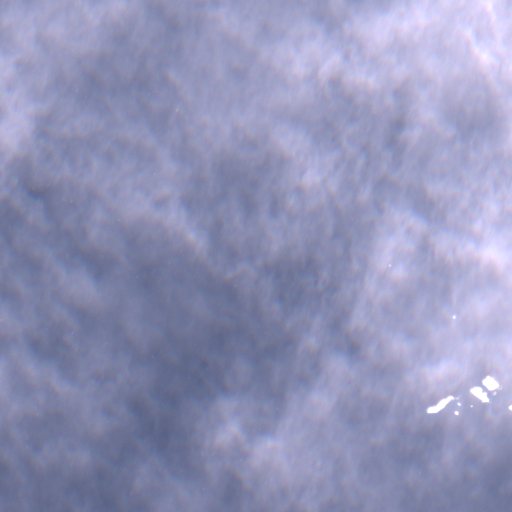Iceberg: (427, 395, 458, 413), (470, 386, 489, 402), (482, 375, 501, 390), (454, 411, 458, 414), (452, 315, 455, 318), (493, 391, 496, 394), (457, 402, 460, 405), (509, 405, 511, 409), (389, 264, 391, 266), (470, 405, 472, 407)
